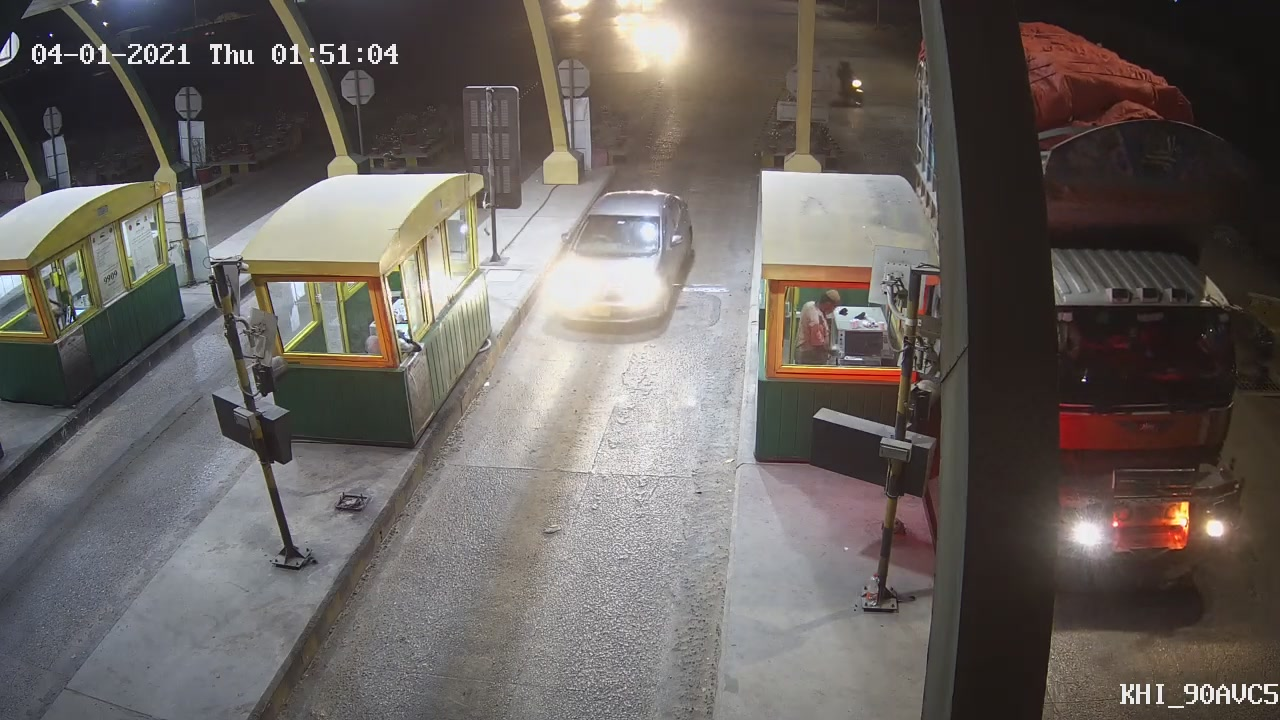F1: (531, 175, 697, 355)
